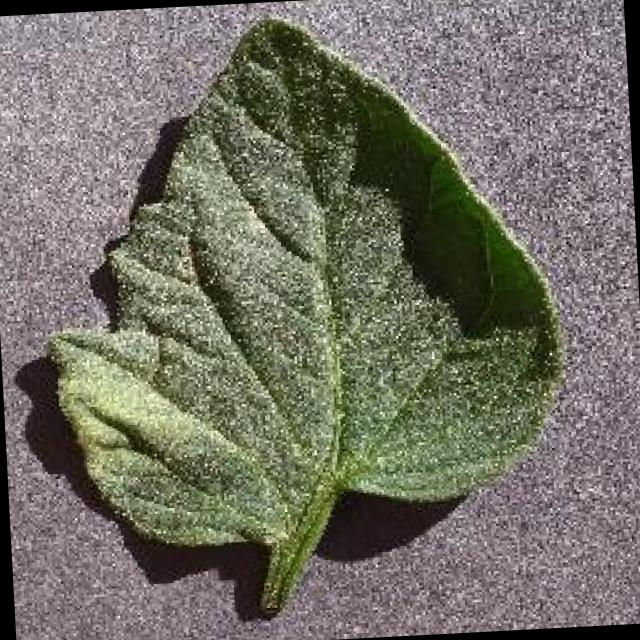Tomato_Healthy: (28, 6, 584, 560)
